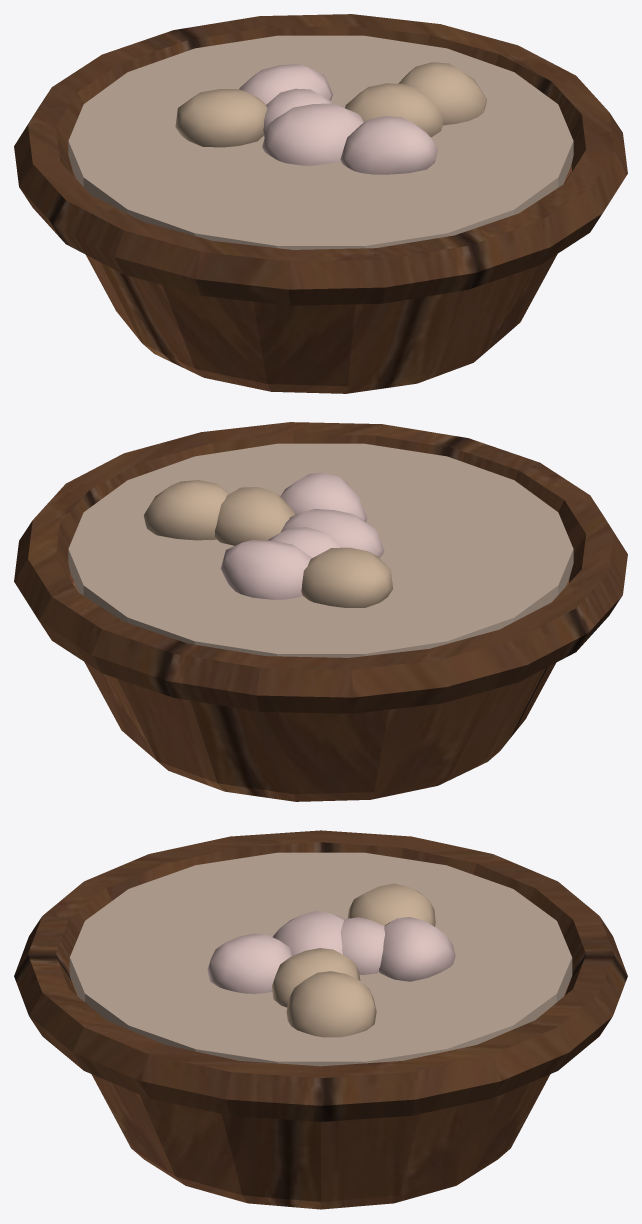
File: dish_snail_stew.glb
3 renders of one model, top to bottom at view 1: azimuth 30°, elevation 25°; view 2: azimuth 150°, elevation 25°; view 3: azimuth 270°, elevation 25°, orthographic.
Parts seen in each view (by area): view 1: model; view 2: model; view 3: model.
Boxes of the visible parts, x1,y1,x2,y2 form: model: (14, 14, 627, 393); model: (14, 422, 627, 801); model: (14, 830, 627, 1209).
Bounding box in the file's own units: 0.264 × 0.1024 × 0.264.
5 materials, 2 textured.
